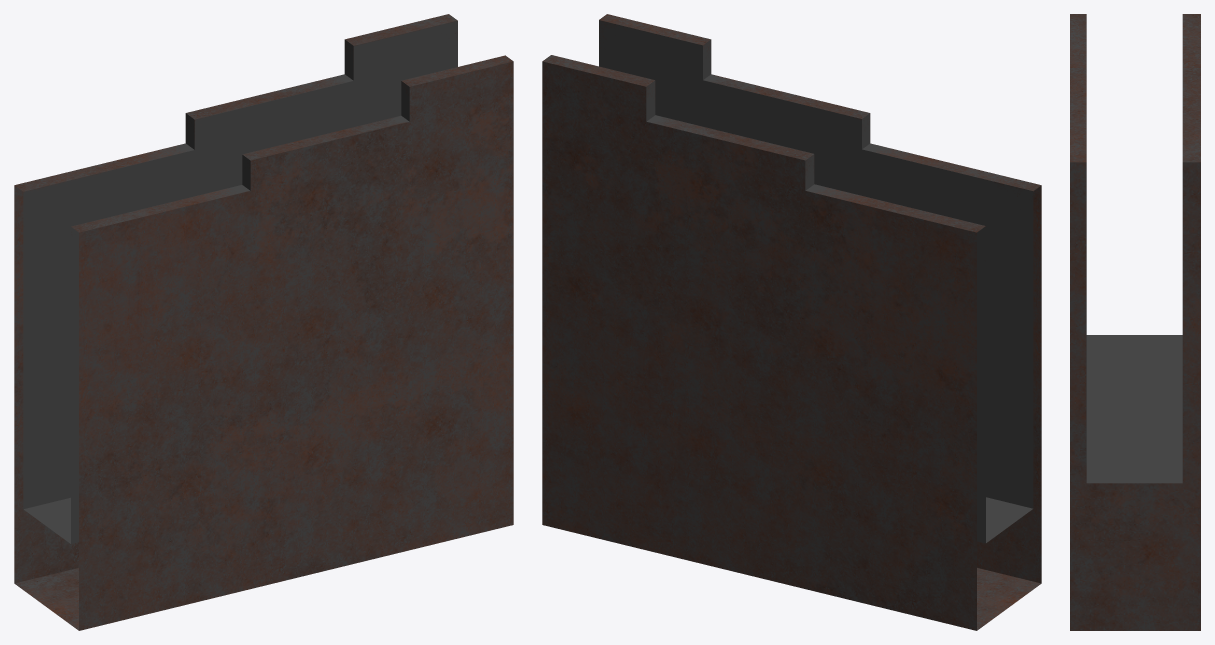
The model's file is Chamber1.fbx.
The picture shows the model from 3 angles, left to right: view 1: azimuth 30°, elevation 25°; view 2: azimuth 150°, elevation 25°; view 3: azimuth 270°, elevation 25°; orthographic projection.
Parts seen in each view (by area): view 1: Fight 1.001; view 2: Fight 1.001; view 3: Fight 1.001.
Boxes of the visible parts, box(x1,y1,x2,y2) form: Fight 1.001: box(14, 14, 513, 630); Fight 1.001: box(542, 14, 1041, 630); Fight 1.001: box(1070, 14, 1200, 630).
Size of the model in its own units: 8687 by 8855 by 2244.
Materials: 1 (1 with a texture image).
